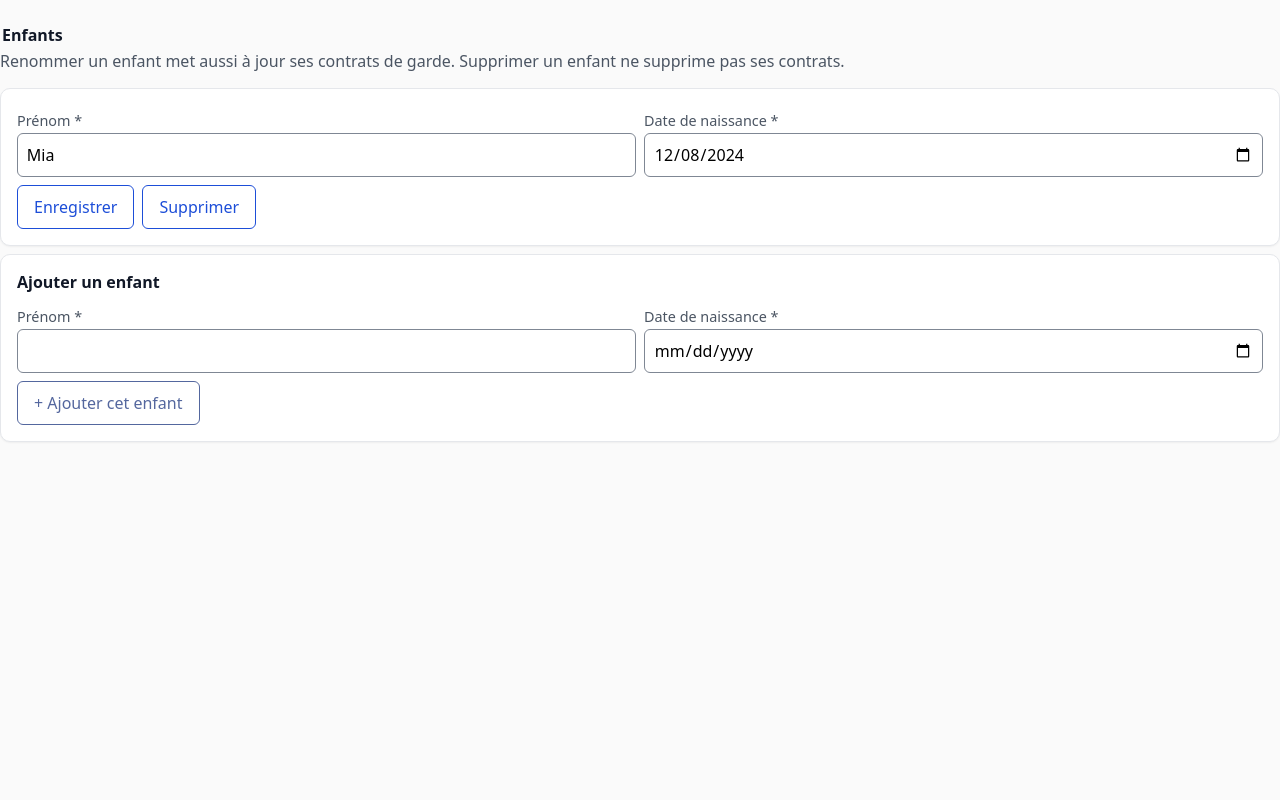
it: EnfantsSection › supprime un enfant APRÈS confirmation dans la modale (variante générique)
What coordinates should you click on to do the following:
click the button with aria-label "Supprimer l’enfant Mia"
I would click on:
 (199, 207)
Its box is [142, 185, 256, 229].
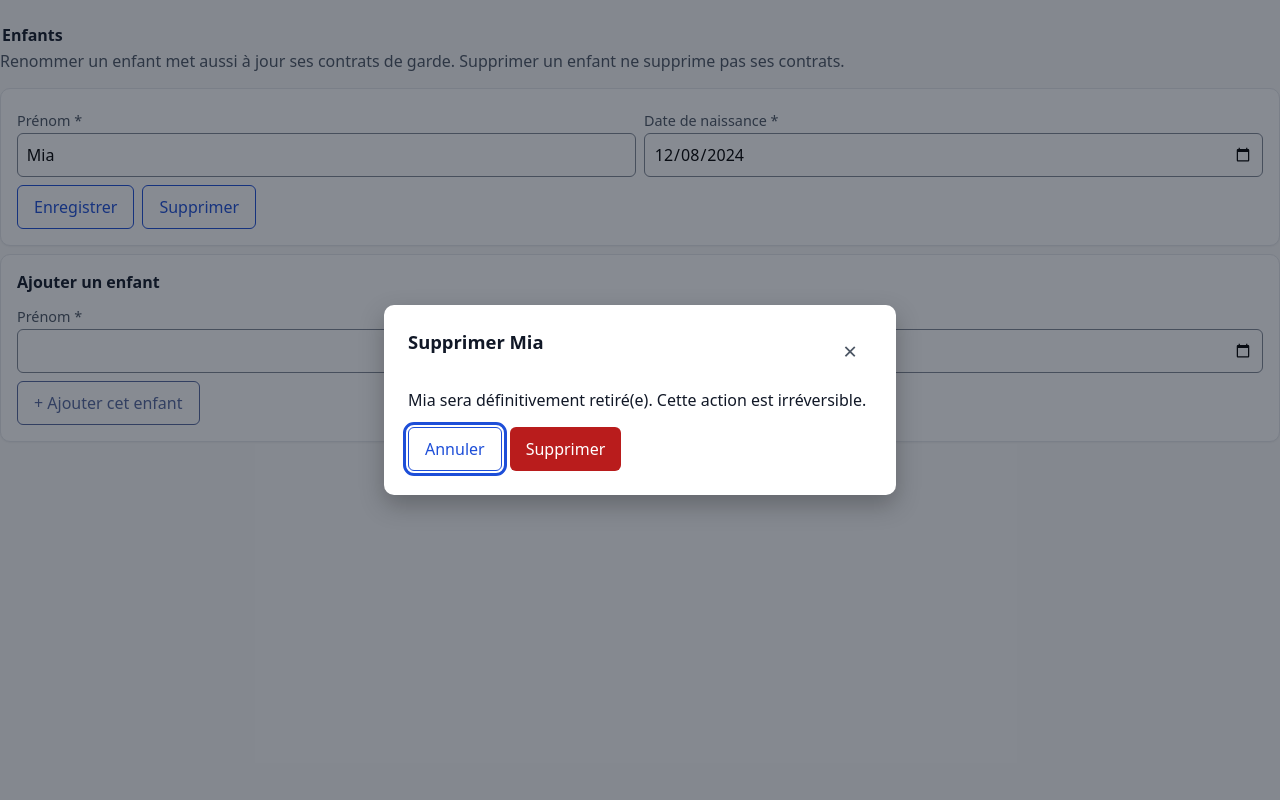
Result: the text "sera définitivement retiré" is shown at [408, 389, 866, 411]
Confirmer déclenche la suppression et retire la ligne.
What coordinates should you click on to do the following:
click the button "Supprimer"
I would click on:
 (566, 449)
Its box is [510, 427, 621, 471].
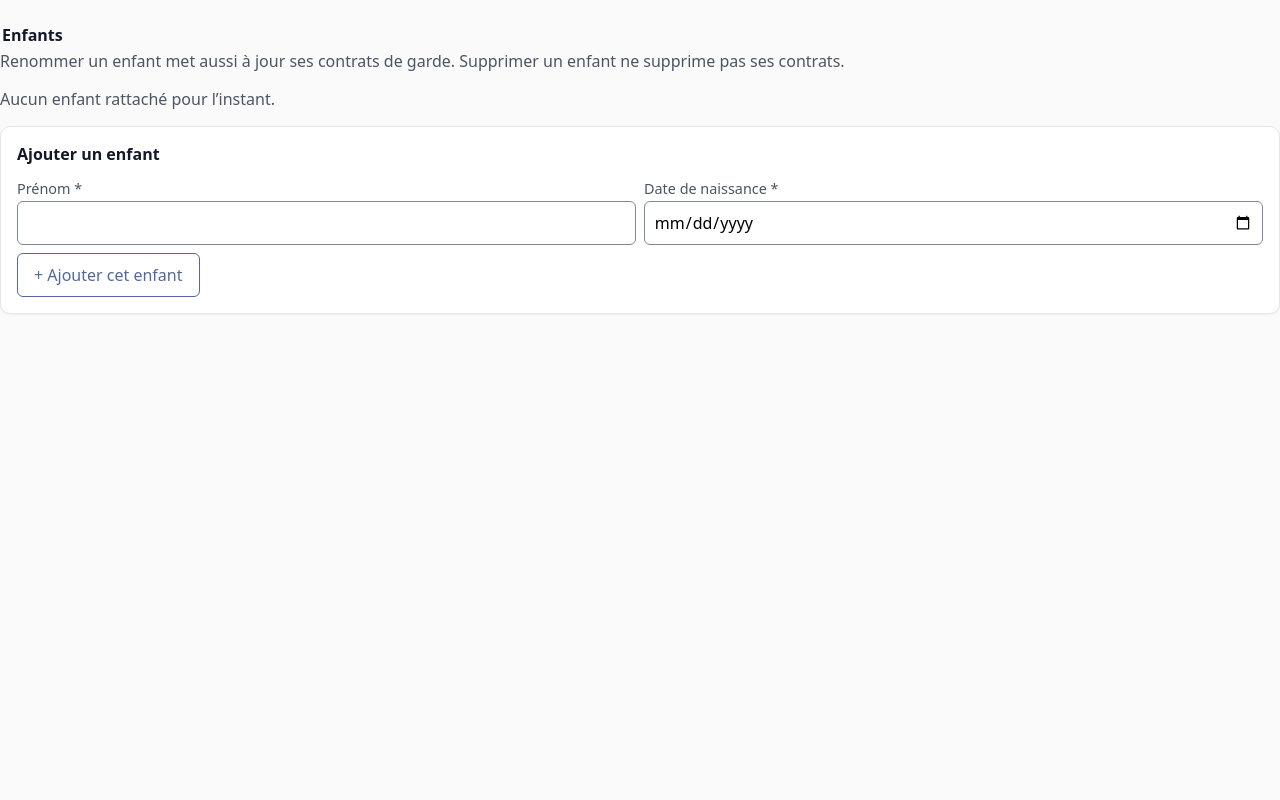
Result: the heading showing "Mia" is gone
